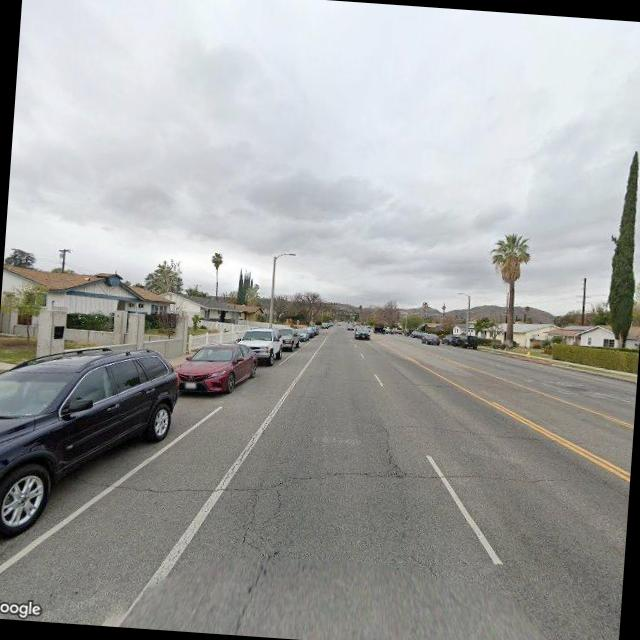crack: (68, 443, 602, 526), (218, 479, 288, 635), (395, 416, 544, 444), (374, 420, 402, 476)
